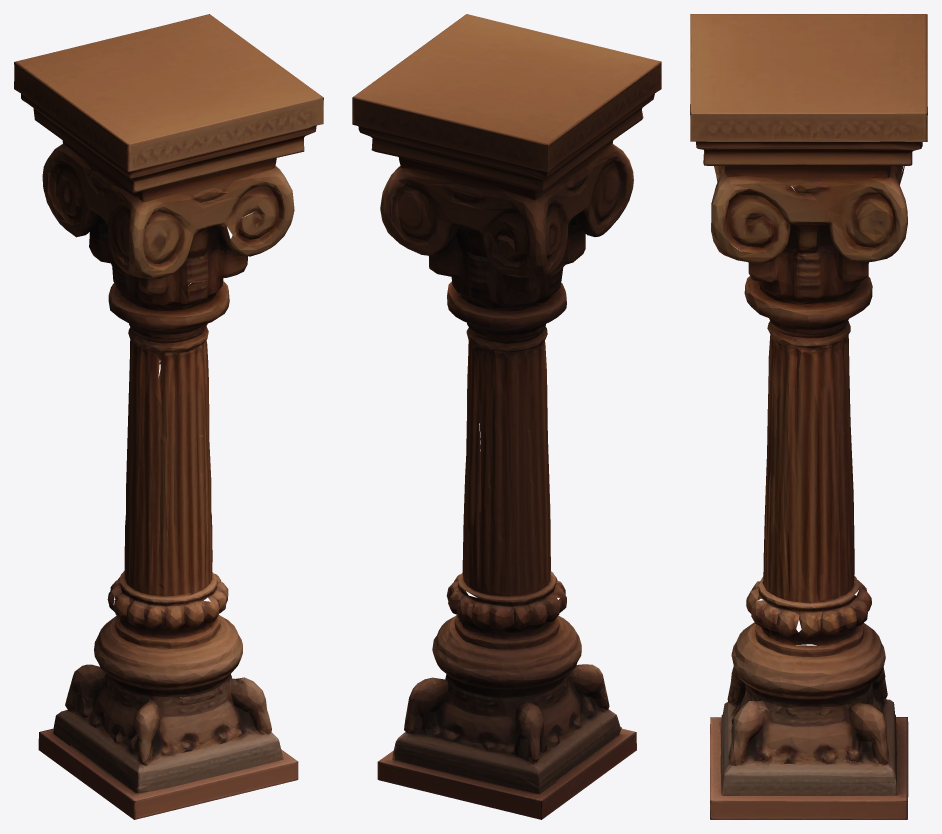
The model's file is pillar.glb.
3 renders of one model, left to right at view 1: azimuth 30°, elevation 25°; view 2: azimuth 150°, elevation 25°; view 3: azimuth 270°, elevation 25°, orthographic. The views are drawn at different scales.
Parts seen in each view (by area): view 1: geometry_0; view 2: geometry_0; view 3: geometry_0.
Part boxes in pixels (bbox=[...]): geometry_0: bbox=[14, 14, 323, 819]; geometry_0: bbox=[352, 14, 661, 819]; geometry_0: bbox=[690, 14, 927, 819].
Bounding box in the file's own units: 0.2994 × 1 × 0.3015.
Materials: 1 (1 with a texture image).
